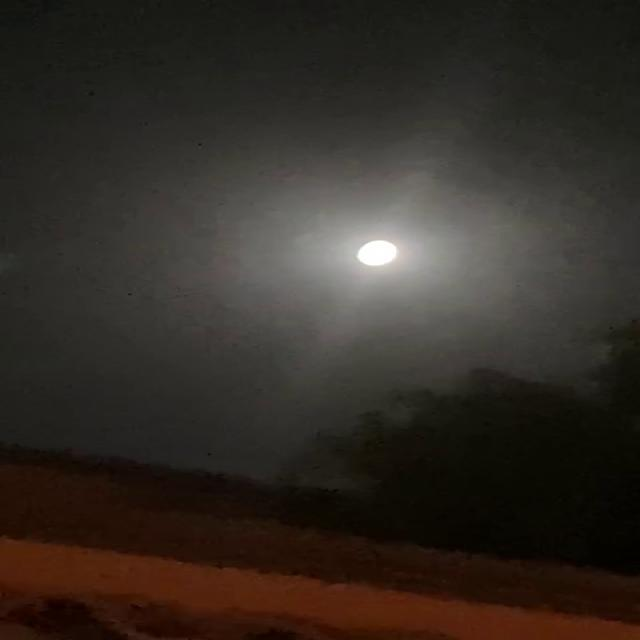moon: (377, 175, 455, 250)
